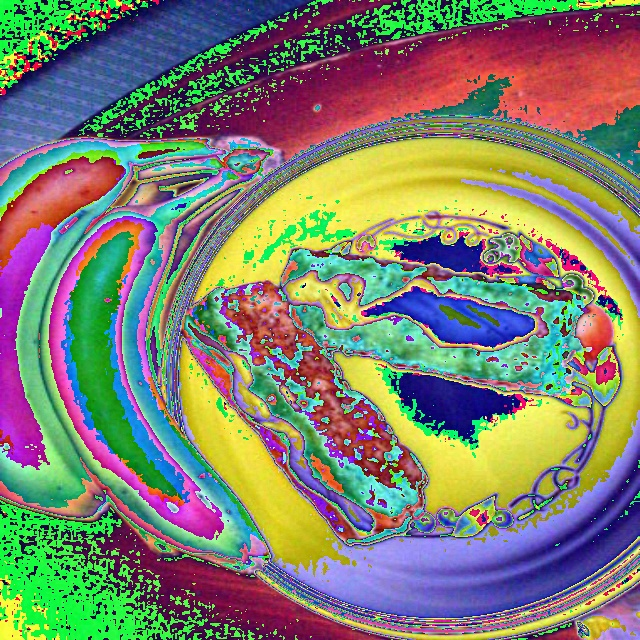background: (0, 133, 288, 573), (181, 245, 582, 542)
